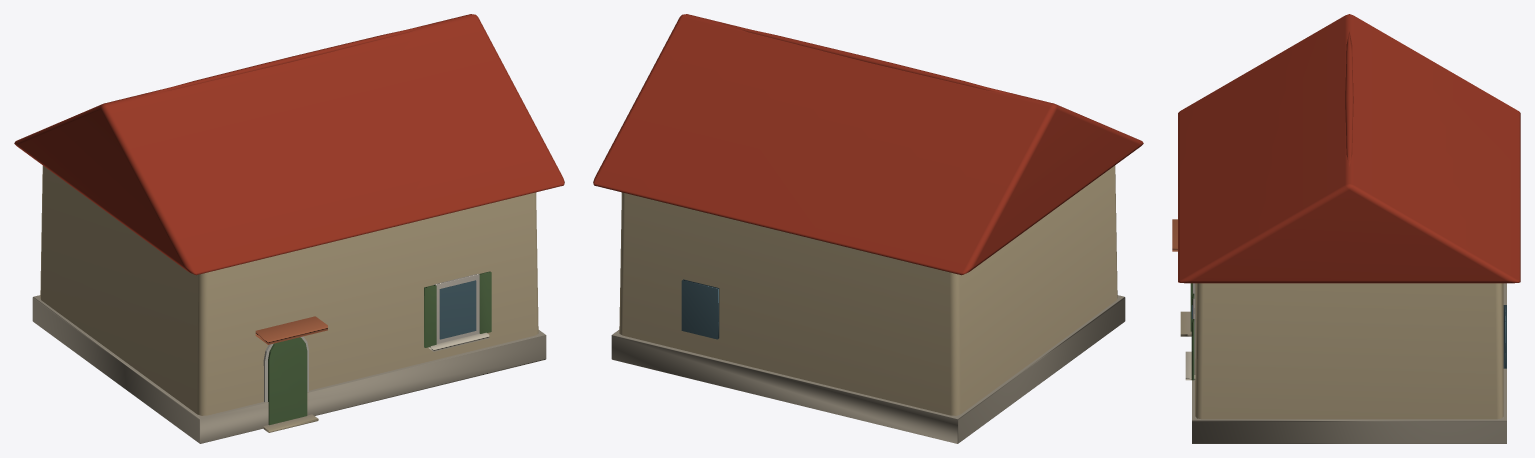
Rendered from house_07.glb.
3 views of the same model, side by side, from view 1: azimuth 30°, elevation 25°; view 2: azimuth 150°, elevation 25°; view 3: azimuth 270°, elevation 25° (orthographic). The views are drawn at different scales.
Visible parts, largest first — view 1: house_07; view 2: house_07; view 3: house_07.
Boxes of the visible parts, left/top/right/bottom form: house_07: left=14, top=14, right=564, bottom=443; house_07: left=593, top=14, right=1143, bottom=443; house_07: left=1172, top=14, right=1520, bottom=443.
Bounding box in the file's own units: 9.46 × 6.83 × 8.02.
